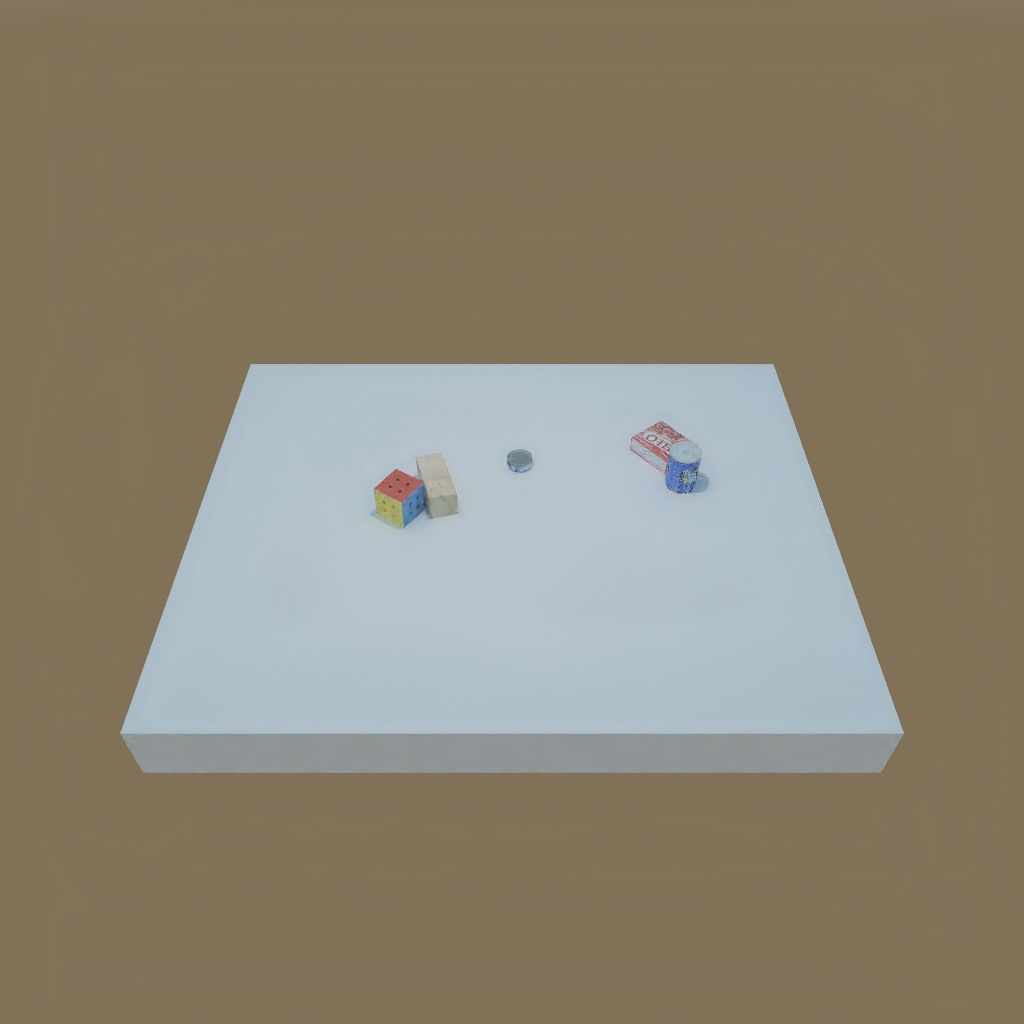gelatin_box: (630, 421, 697, 467)
master_chef_can: (663, 441, 705, 496)
rubiks_cube: (374, 471, 429, 531)
wood_block: (413, 450, 459, 518)
